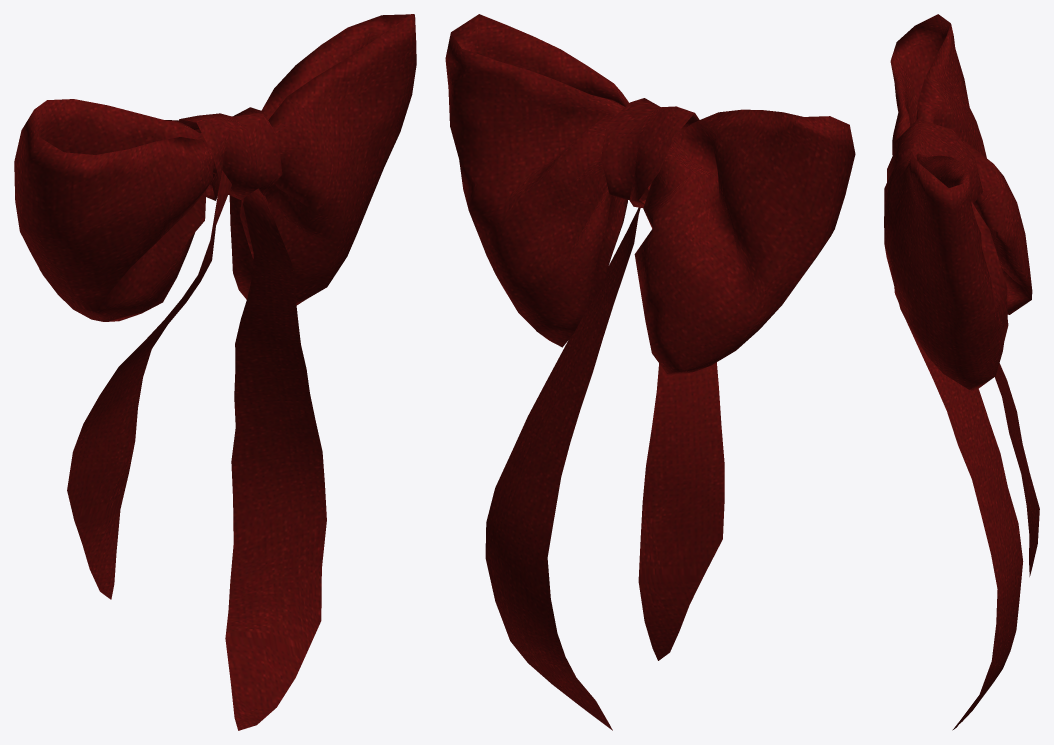
The model's file is Modeling_Ribbon_2ndfloor.FBX.
The picture shows the model from 3 angles, left to right: view 1: azimuth 30°, elevation 25°; view 2: azimuth 150°, elevation 25°; view 3: azimuth 270°, elevation 25°; orthographic projection. The views are drawn at different scales.
Parts seen in each view (by area): view 1: Modeling_ribbon_2ndfloor; view 2: Modeling_ribbon_2ndfloor; view 3: Modeling_ribbon_2ndfloor.
Part boxes in pixels (x1=…): Modeling_ribbon_2ndfloor: x1=14, y1=14, x2=416, y2=730; Modeling_ribbon_2ndfloor: x1=445, y1=14, x2=855, y2=730; Modeling_ribbon_2ndfloor: x1=884, y1=14, x2=1039, y2=730.
Bounding box in the file's own units: 64.3 × 105 × 23.61.
